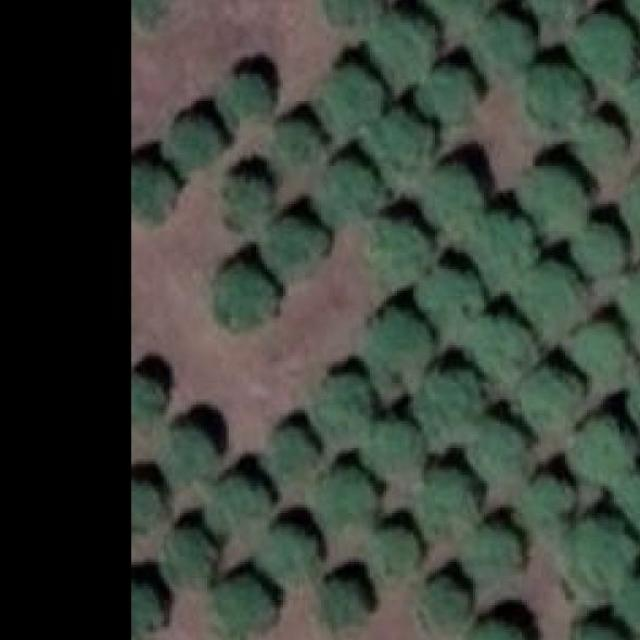Tree: (522, 164, 592, 240), (567, 522, 636, 598), (419, 363, 484, 438), (470, 212, 534, 286), (564, 415, 632, 484), (418, 467, 486, 536), (464, 312, 530, 378), (370, 307, 433, 375), (573, 14, 638, 79), (524, 366, 587, 429), (521, 66, 589, 124), (473, 14, 538, 74), (378, 14, 437, 77), (416, 264, 478, 323), (204, 475, 267, 533), (370, 215, 433, 272), (264, 220, 323, 280), (527, 264, 587, 323), (426, 164, 478, 232), (321, 155, 381, 213), (316, 376, 370, 440), (323, 473, 383, 530), (378, 112, 437, 169), (470, 416, 527, 475), (359, 419, 419, 473), (212, 578, 266, 638), (470, 524, 529, 578), (164, 424, 223, 478), (160, 529, 214, 587), (266, 528, 323, 582), (220, 267, 274, 324), (133, 155, 179, 221), (326, 68, 378, 126), (421, 66, 475, 120), (222, 177, 280, 226), (573, 318, 625, 372), (573, 224, 625, 278), (166, 115, 215, 169), (421, 582, 470, 636), (269, 426, 323, 475), (318, 573, 367, 625), (524, 475, 578, 522), (370, 530, 422, 578), (222, 74, 269, 126), (578, 120, 627, 164), (275, 120, 321, 164), (321, 0, 384, 25), (133, 584, 164, 634), (131, 481, 161, 532), (527, 0, 587, 23), (568, 618, 630, 640), (614, 575, 640, 627), (461, 621, 530, 640), (424, 0, 487, 20), (131, 376, 164, 414), (133, 0, 172, 30), (625, 172, 640, 236), (622, 74, 640, 126), (625, 266, 640, 328), (628, 469, 640, 526), (630, 372, 640, 430), (630, 0, 640, 23)
